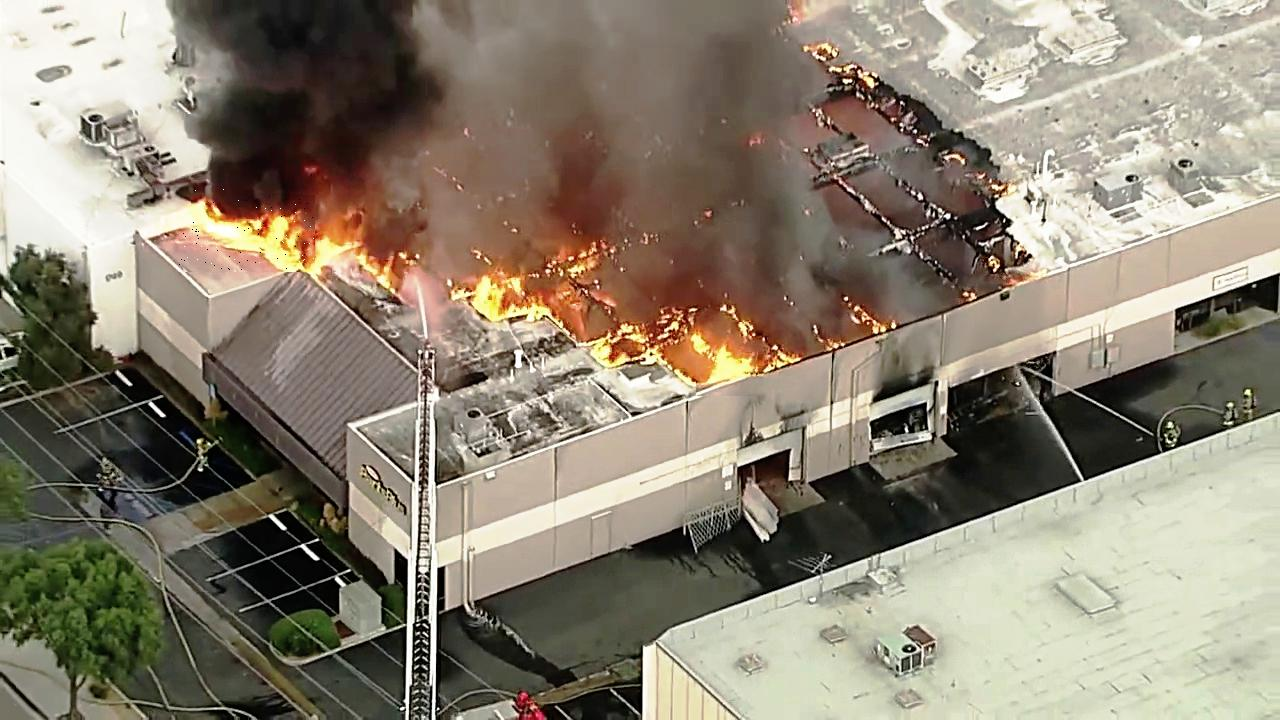fire: (179, 189, 315, 272), (697, 322, 762, 396)
